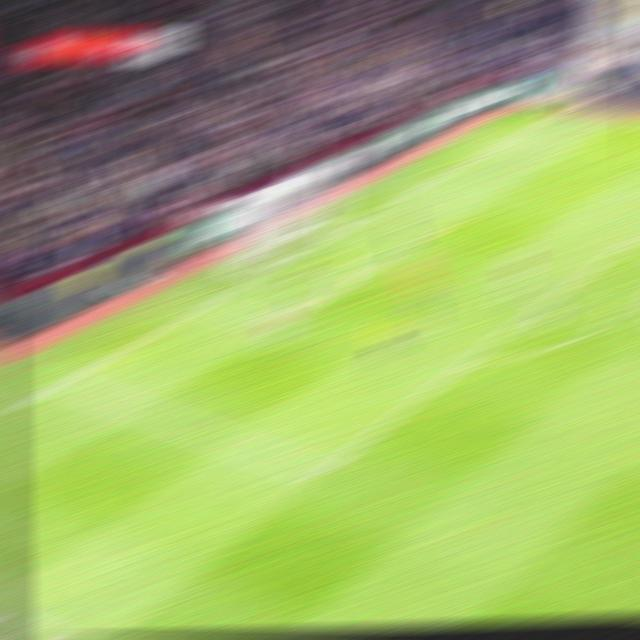bigarea_bottom_inner: (299, 459, 339, 486)
bigarea_bottom_outter: (45, 372, 78, 391)
bigarea_top_outter: (451, 154, 483, 165)
bottom_arc_area_intersection: (448, 348, 485, 370)
corner: (539, 107, 574, 117)
smallarea_bottom_outter: (189, 293, 224, 314)
smallarea_top_inner: (432, 212, 465, 231)
smallarea_top_outter: (365, 199, 398, 216)
top_arc_area_intersection: (584, 255, 615, 269)
